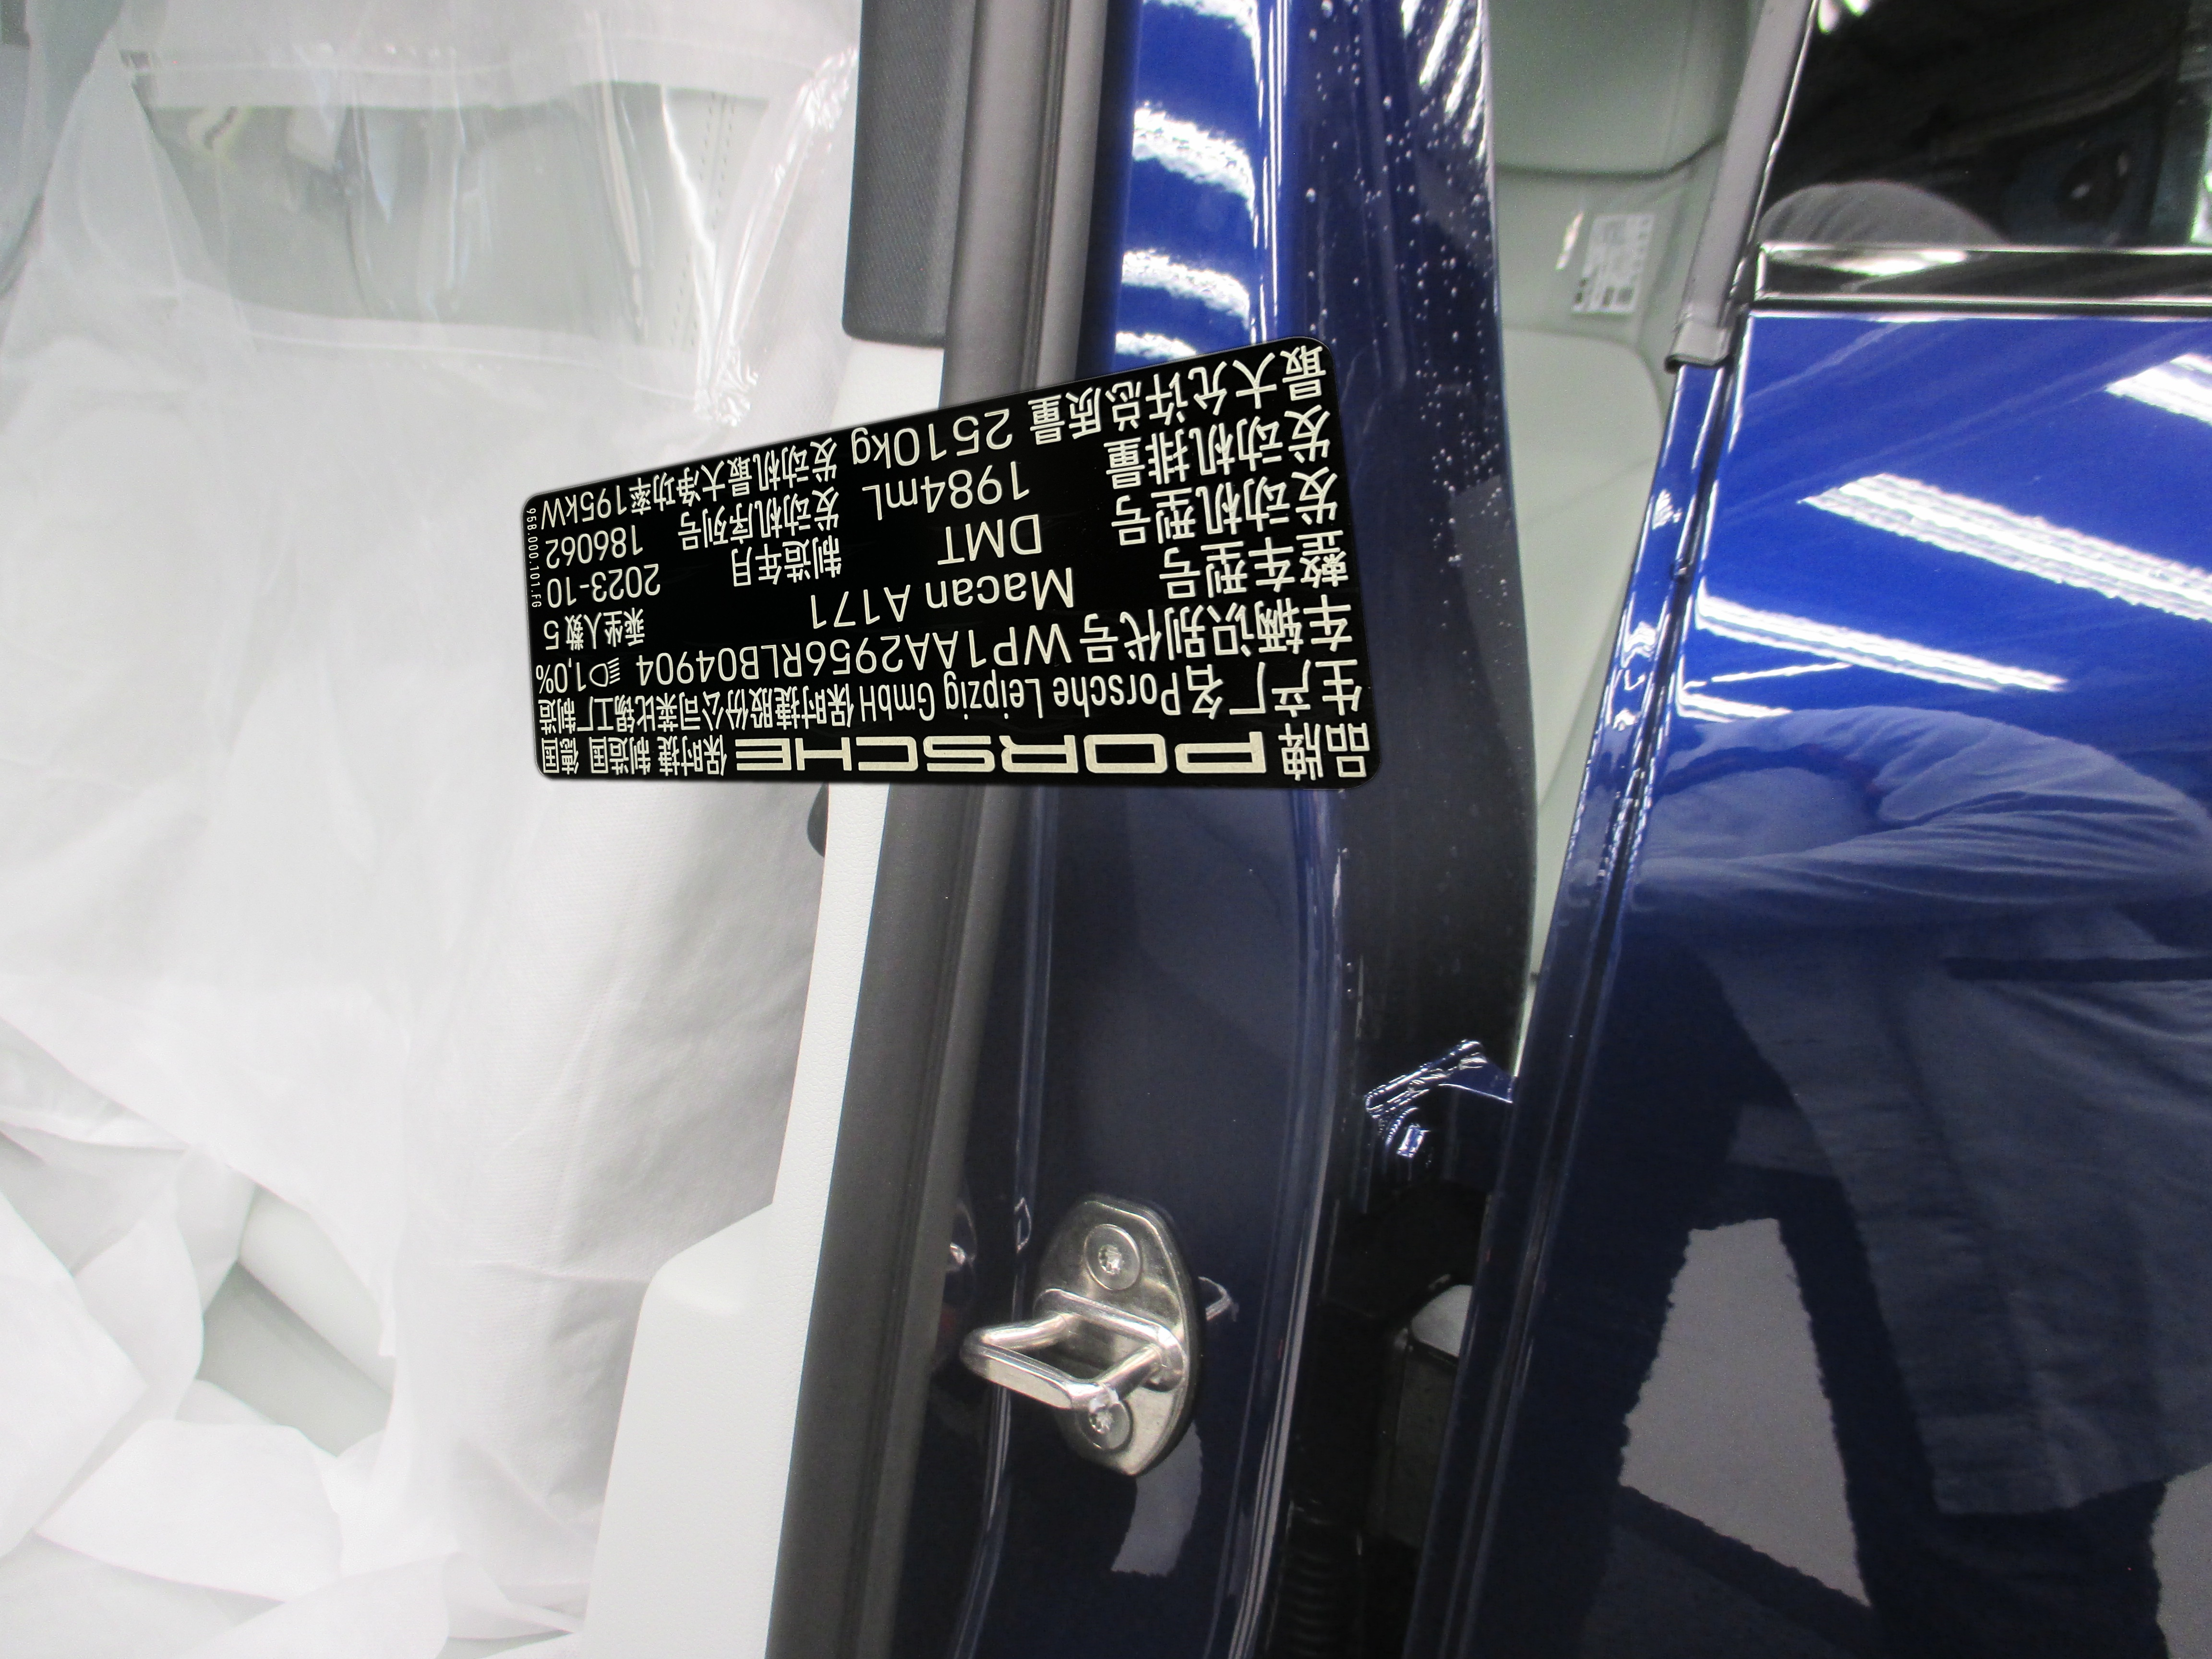Typlabel-China: (523, 336, 1381, 789)
